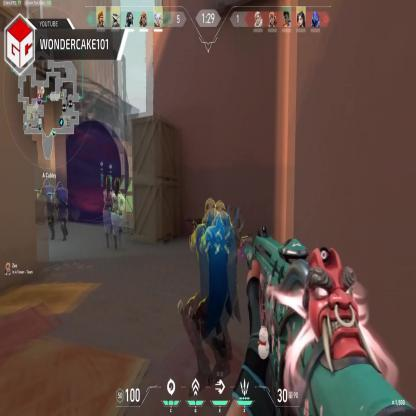enemy: (181, 201, 240, 394), (108, 177, 124, 252), (52, 176, 71, 238)
enemy_head: (208, 201, 224, 228), (114, 179, 121, 196), (56, 182, 62, 192)
